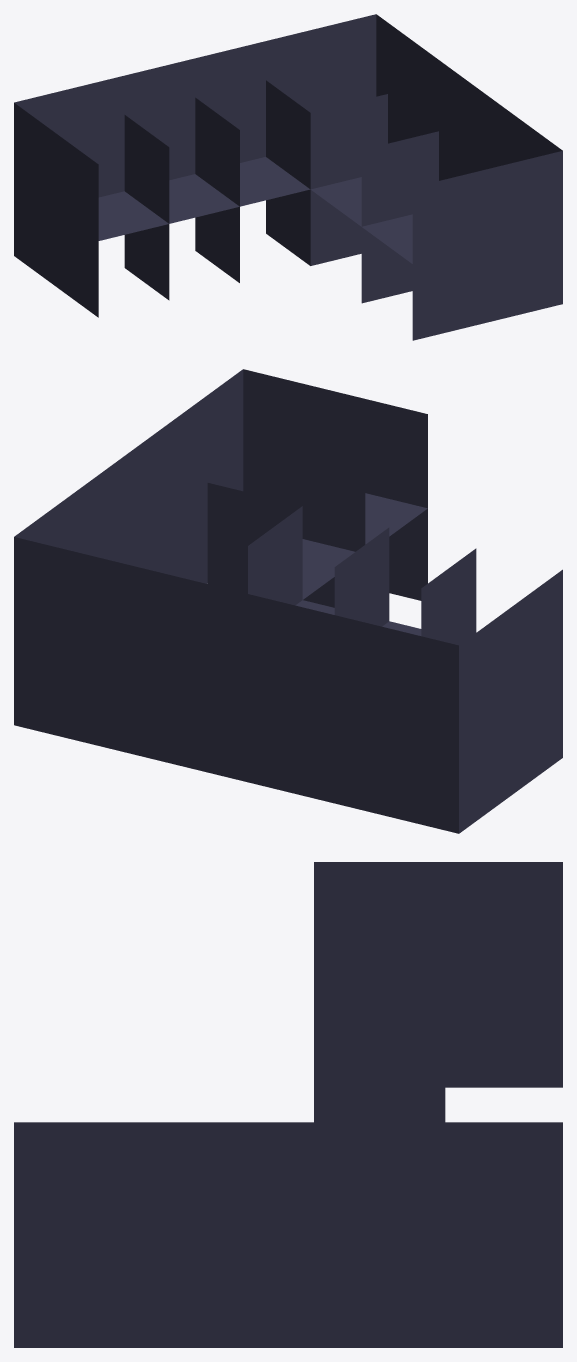
File: Burned_Apartments.fbx
3 views of the same model, one above another, from view 1: azimuth 30°, elevation 25°; view 2: azimuth 150°, elevation 25°; view 3: azimuth 270°, elevation 25° (orthographic). The views are drawn at different scales.
Parts seen in each view (by area): view 1: Cube.043; view 2: Cube.043; view 3: Cube.043.
Boxes of the visible parts, <box> form: Cube.043: <box>14,14,562,340</box>; Cube.043: <box>14,369,562,833</box>; Cube.043: <box>14,862,562,1347</box>.
Bounding box in the file's own units: 2522 × 1020 × 2250.
